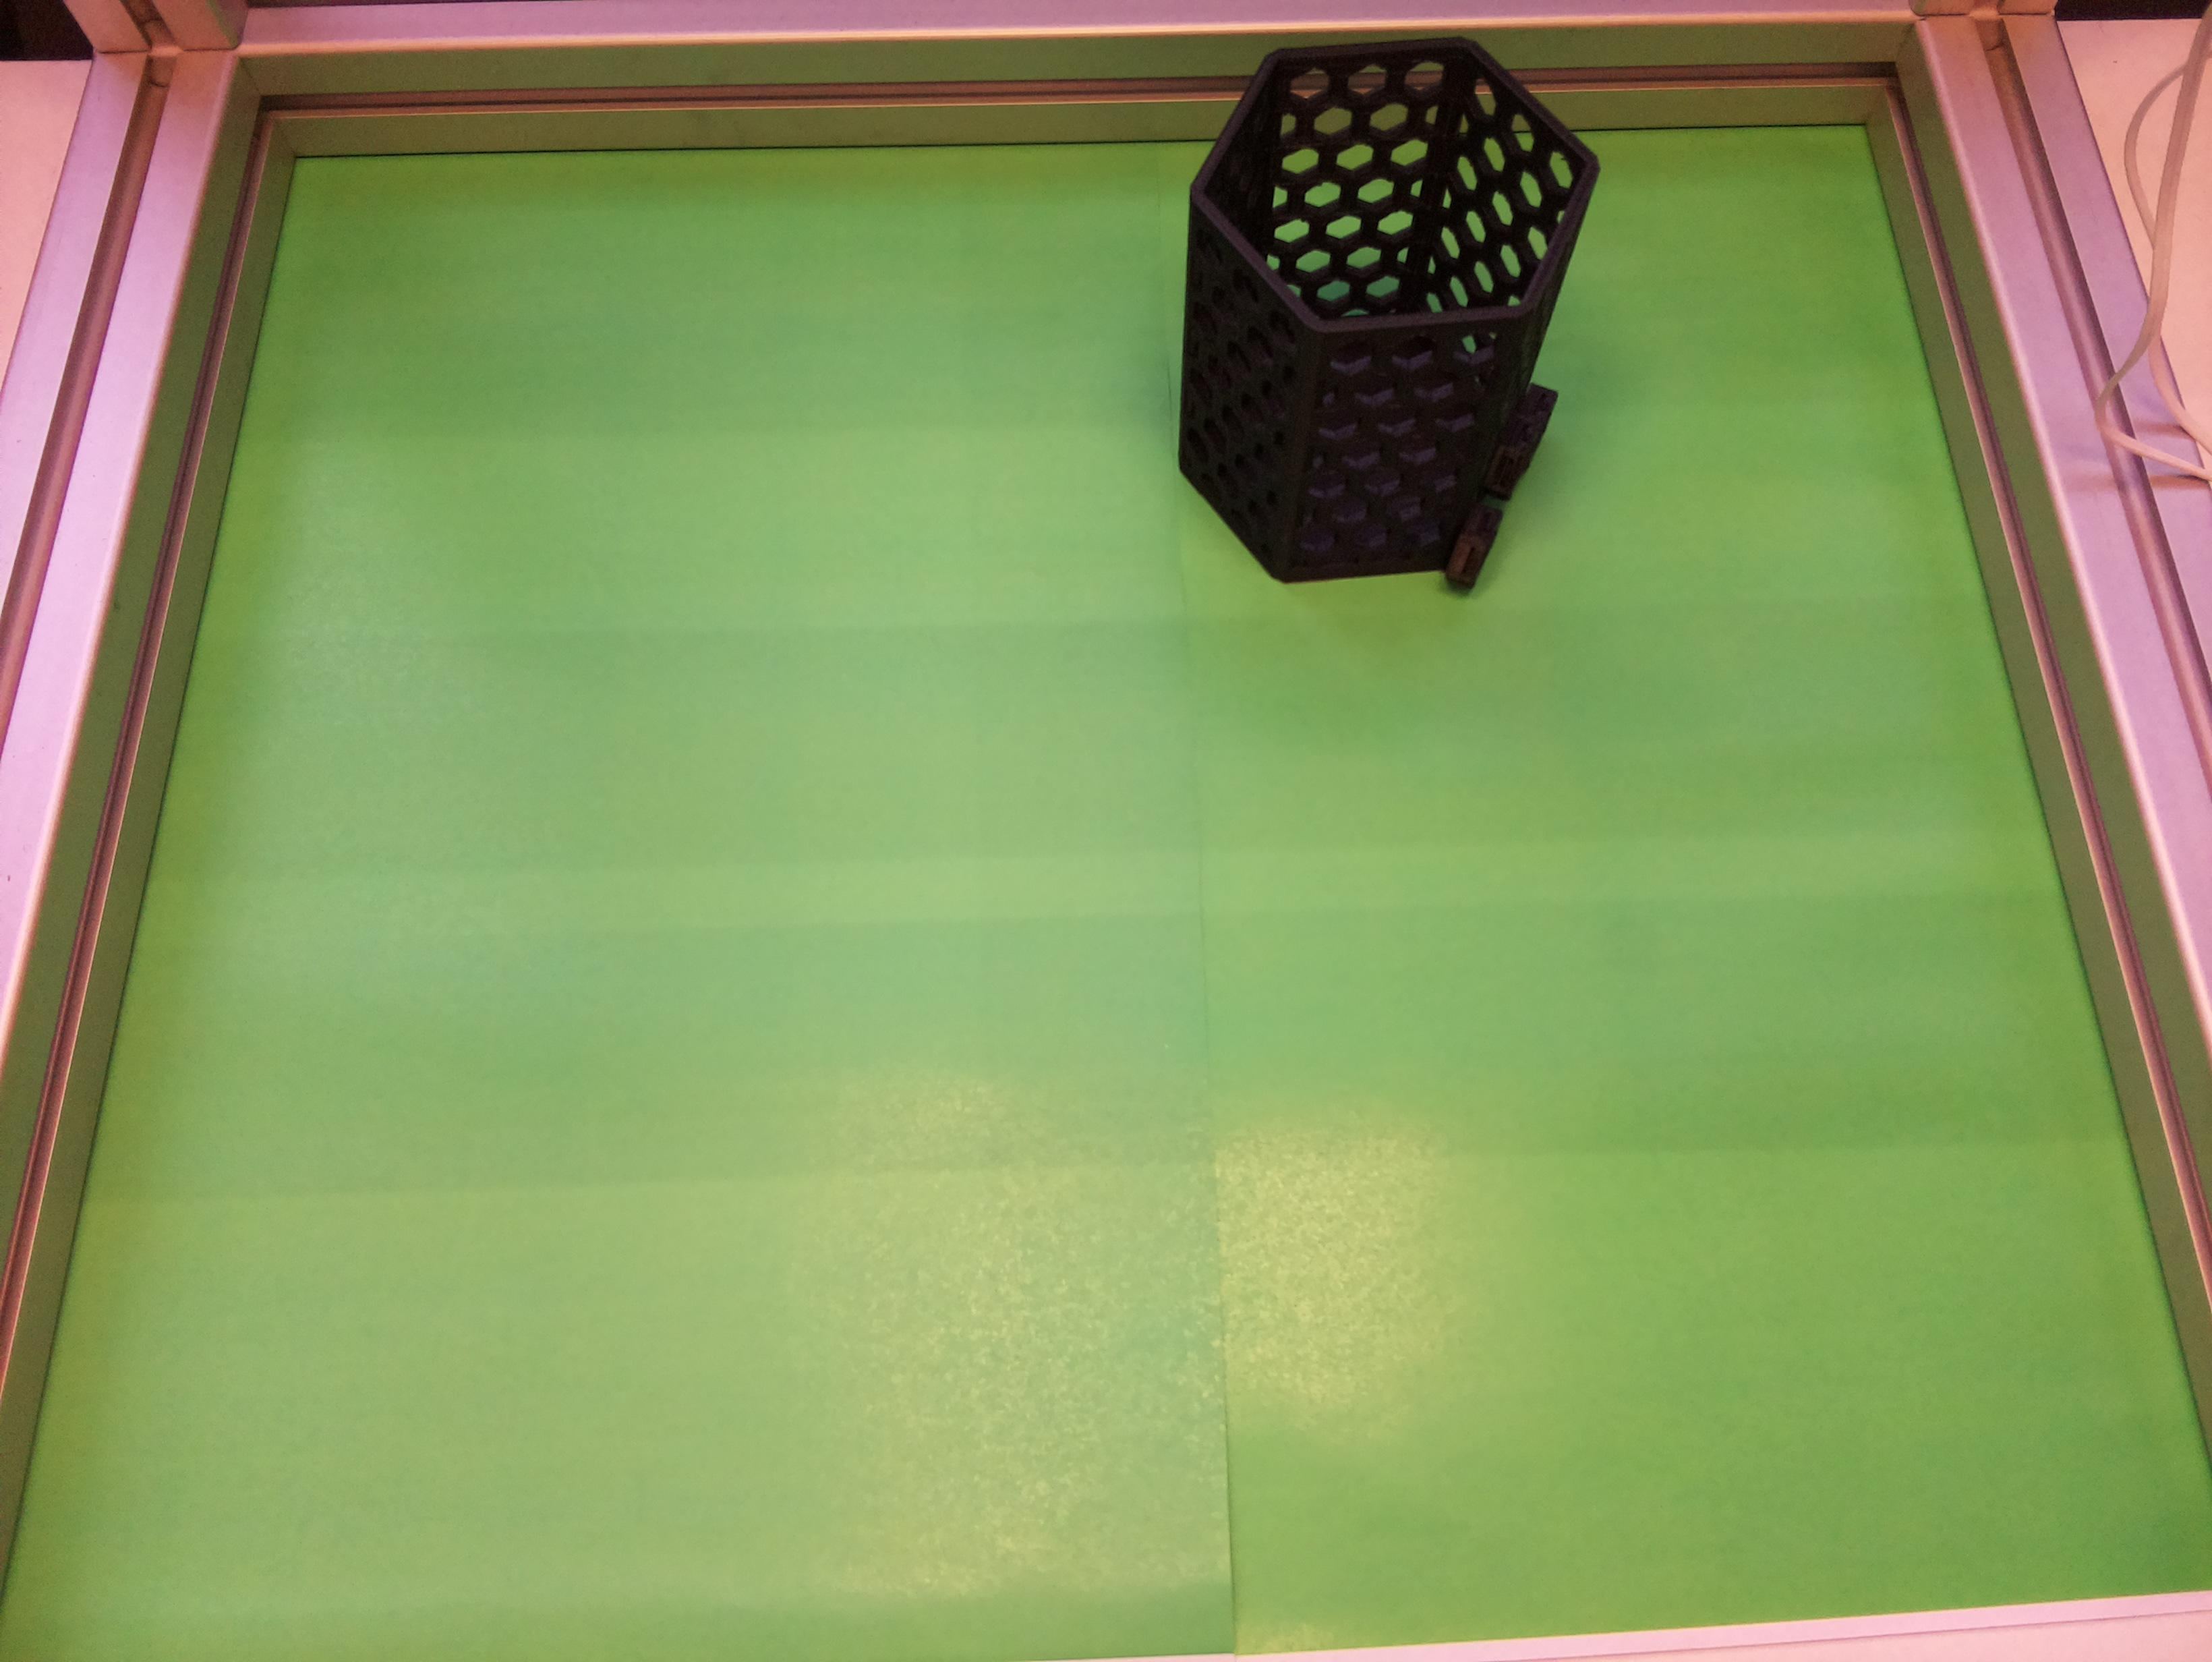cup_holder: (1167, 22, 1607, 600)
